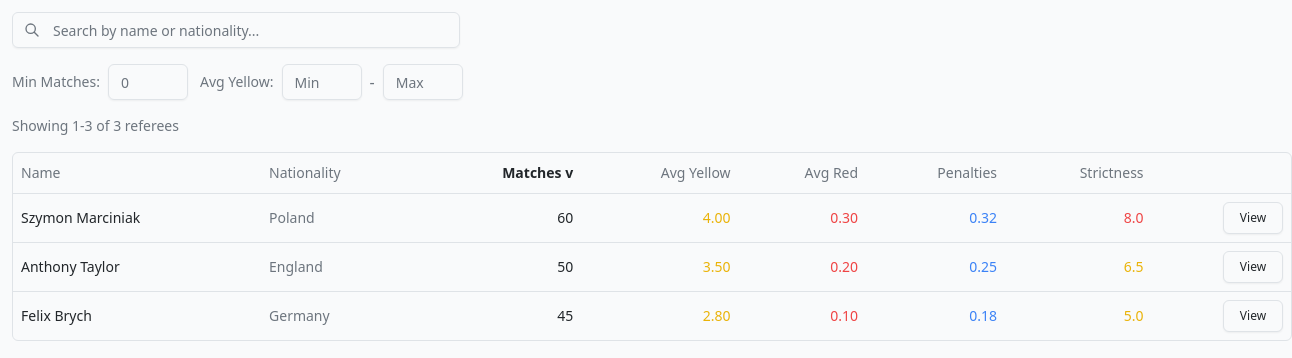
it: RefereeDataTable › filters referees by nationality
This screenshot has width=1292, height=358.
Type "Germany" into the search field with placeholder "Search by name or nationality...". click: (236, 30)
box: [12,12,460,48]
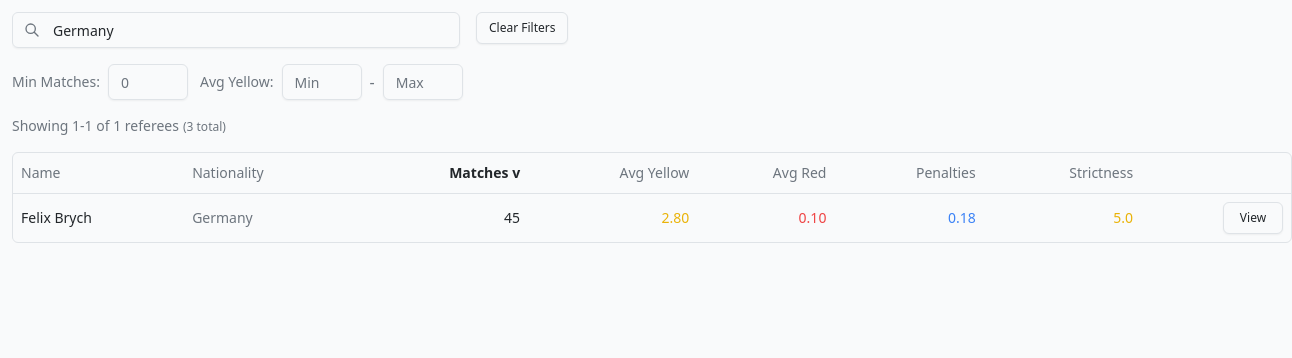
Check: the link "Felix Brych" is shown, box [21,208,92,226]
Check: the link "Anthony Taylor" is gone
Check: the link "Szymon Marciniak" is gone
